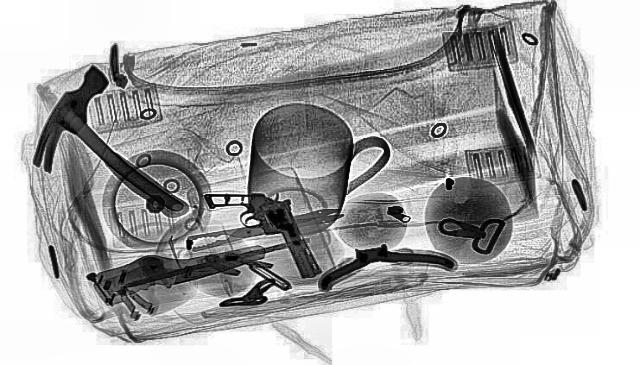Gun: (197, 182, 335, 286)
Pliers: (296, 235, 458, 291)
Scissors: (176, 204, 348, 250)
